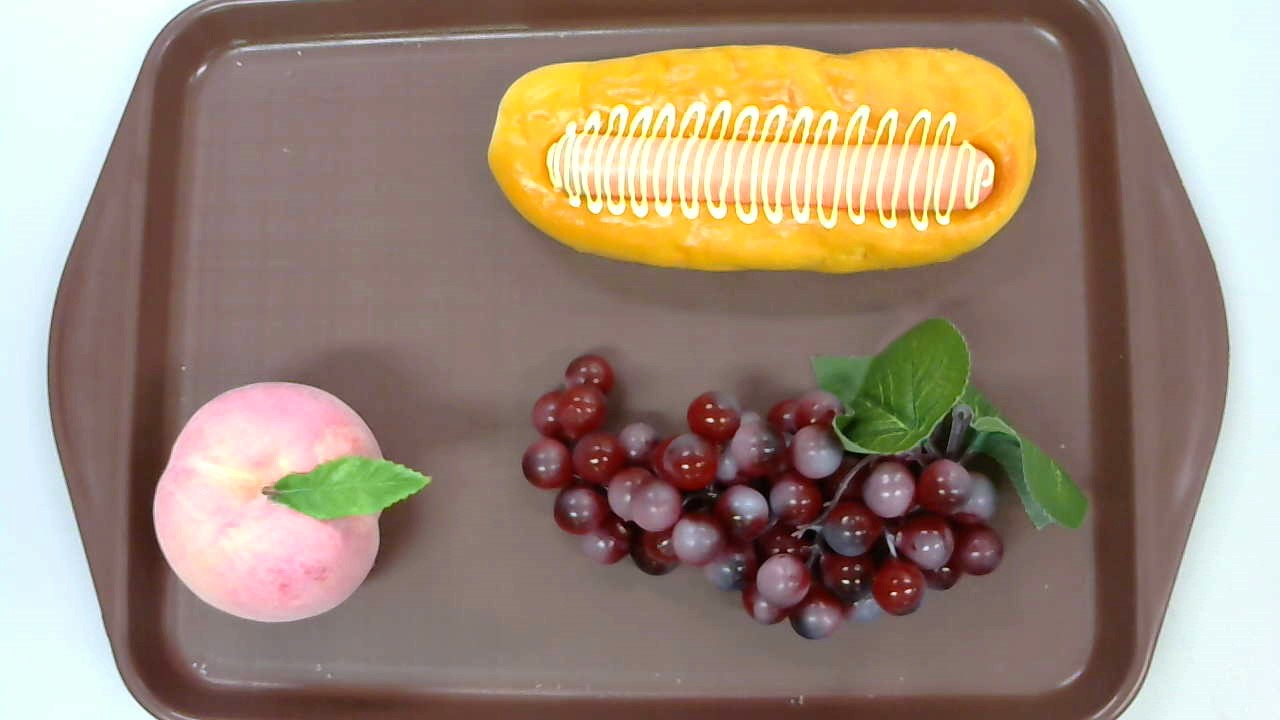grape: (522, 316, 1087, 643)
hot dog: (485, 43, 1037, 277)
peach: (152, 381, 430, 624)
